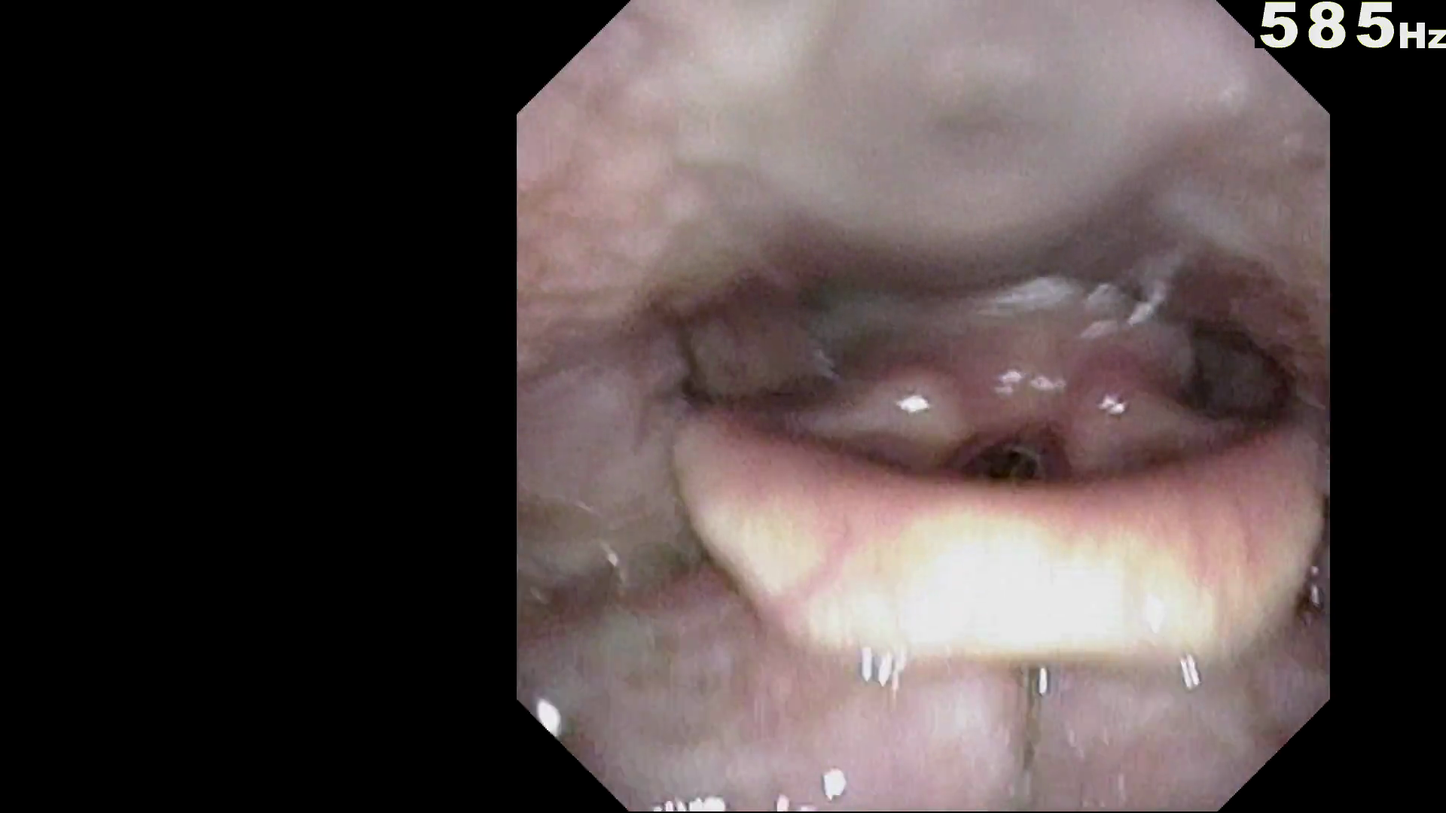epiglottis: (652, 364, 1321, 665)
trachea: (940, 422, 1069, 495)
